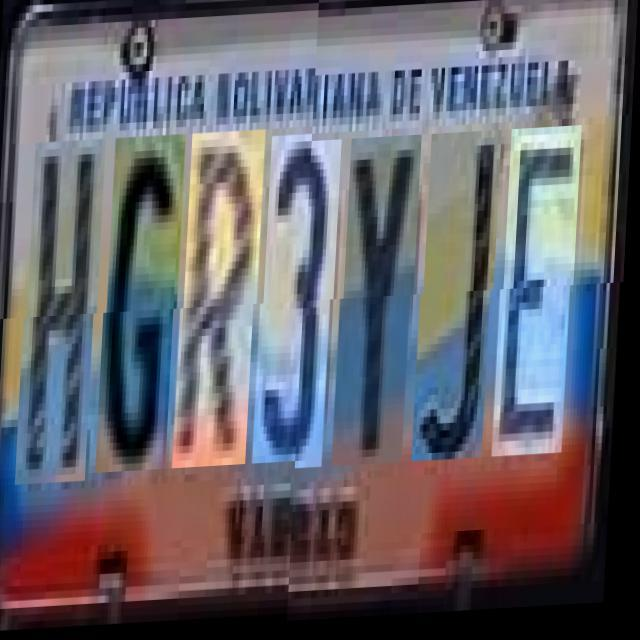3: (260, 143, 344, 474)
E: (501, 132, 584, 463)
G: (104, 144, 188, 482)
H: (23, 148, 108, 492)
J: (421, 136, 504, 467)
R: (180, 140, 267, 478)
Y: (341, 140, 424, 470)
